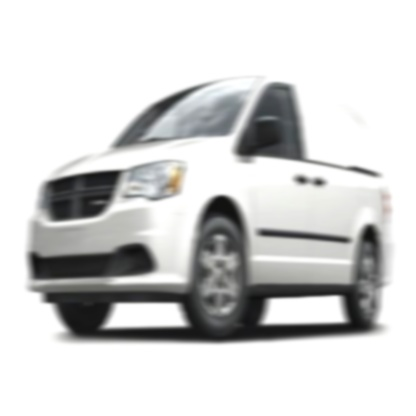Vehicle: (27, 74, 392, 339)
